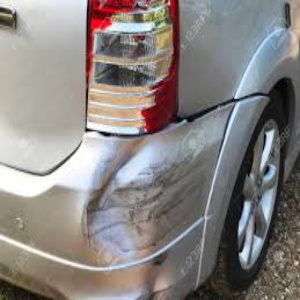bumper_scratch: (78, 137, 212, 255)
